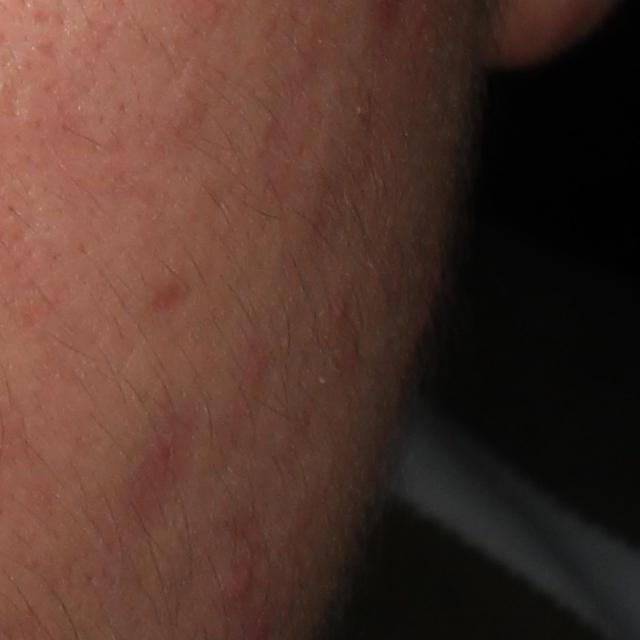papule: (220, 556, 255, 609)
